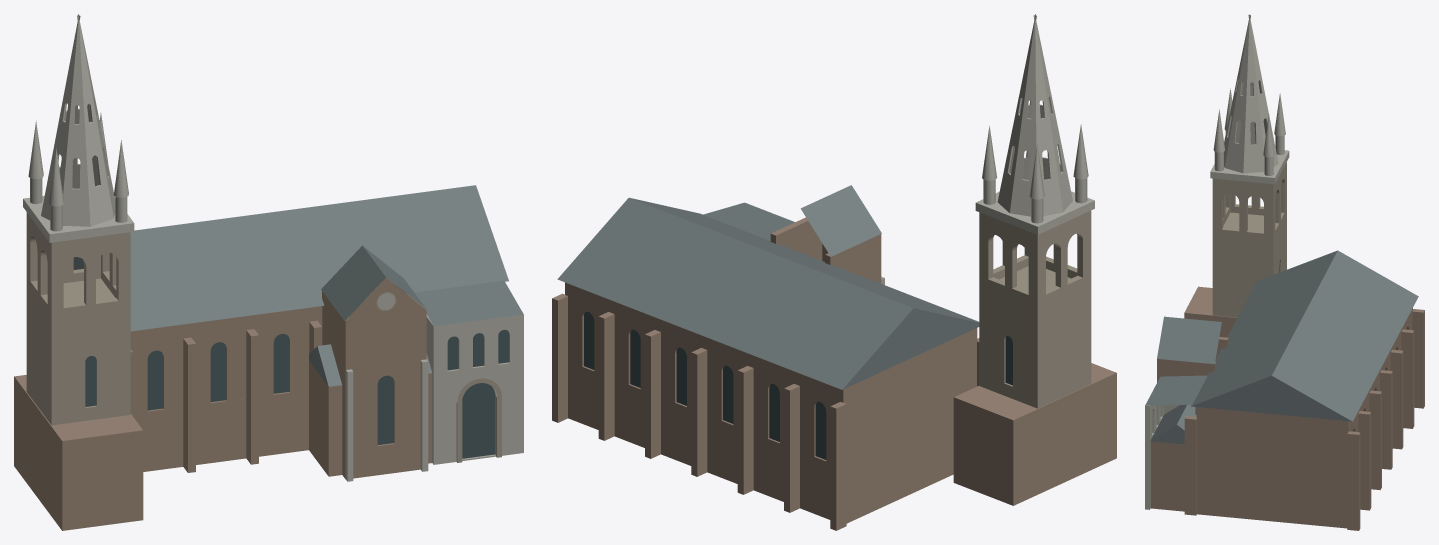
Rendered from collegiale-saint-andre-grenoble-near.glb.
3 renders of one model, left to right at view 1: azimuth 30°, elevation 25°; view 2: azimuth 150°, elevation 25°; view 3: azimuth 270°, elevation 25°, orthographic. The views are drawn at different scales.
Parts seen in each view (by area): view 1: collegiale-saint-andre-grenoble-0-brick, collegiale-saint-andre-grenoble-0-roof, collegiale-saint-andre-grenoble-0-trim, collegiale-saint-andre-grenoble-0-stone, collegiale-saint-andre-grenoble-0-glass; view 2: collegiale-saint-andre-grenoble-0-brick, collegiale-saint-andre-grenoble-0-roof, collegiale-saint-andre-grenoble-0-stone, collegiale-saint-andre-grenoble-0-trim, collegiale-saint-andre-grenoble-0-glass; view 3: collegiale-saint-andre-grenoble-0-brick, collegiale-saint-andre-grenoble-0-roof, collegiale-saint-andre-grenoble-0-stone, collegiale-saint-andre-grenoble-0-trim.
Boxes of the visible parts, x1,y1,x2,y2 form: collegiale-saint-andre-grenoble-0-brick: (14, 268, 432, 530); collegiale-saint-andre-grenoble-0-roof: (73, 185, 523, 386); collegiale-saint-andre-grenoble-0-trim: (23, 15, 523, 481); collegiale-saint-andre-grenoble-0-stone: (26, 212, 501, 462); collegiale-saint-andre-grenoble-0-glass: (85, 329, 509, 458); collegiale-saint-andre-grenoble-0-brick: (552, 217, 1116, 530); collegiale-saint-andre-grenoble-0-roof: (557, 185, 979, 389); collegiale-saint-andre-grenoble-0-stone: (979, 210, 1091, 408); collegiale-saint-andre-grenoble-0-trim: (770, 15, 1094, 284); collegiale-saint-andre-grenoble-0-glass: (584, 311, 1012, 459); collegiale-saint-andre-grenoble-0-brick: (1150, 286, 1424, 530); collegiale-saint-andre-grenoble-0-roof: (1145, 250, 1418, 444); collegiale-saint-andre-grenoble-0-stone: (1212, 162, 1286, 317); collegiale-saint-andre-grenoble-0-trim: (1145, 15, 1289, 509).
Size of the model in its own units: 59.33 by 56 by 39.64.
